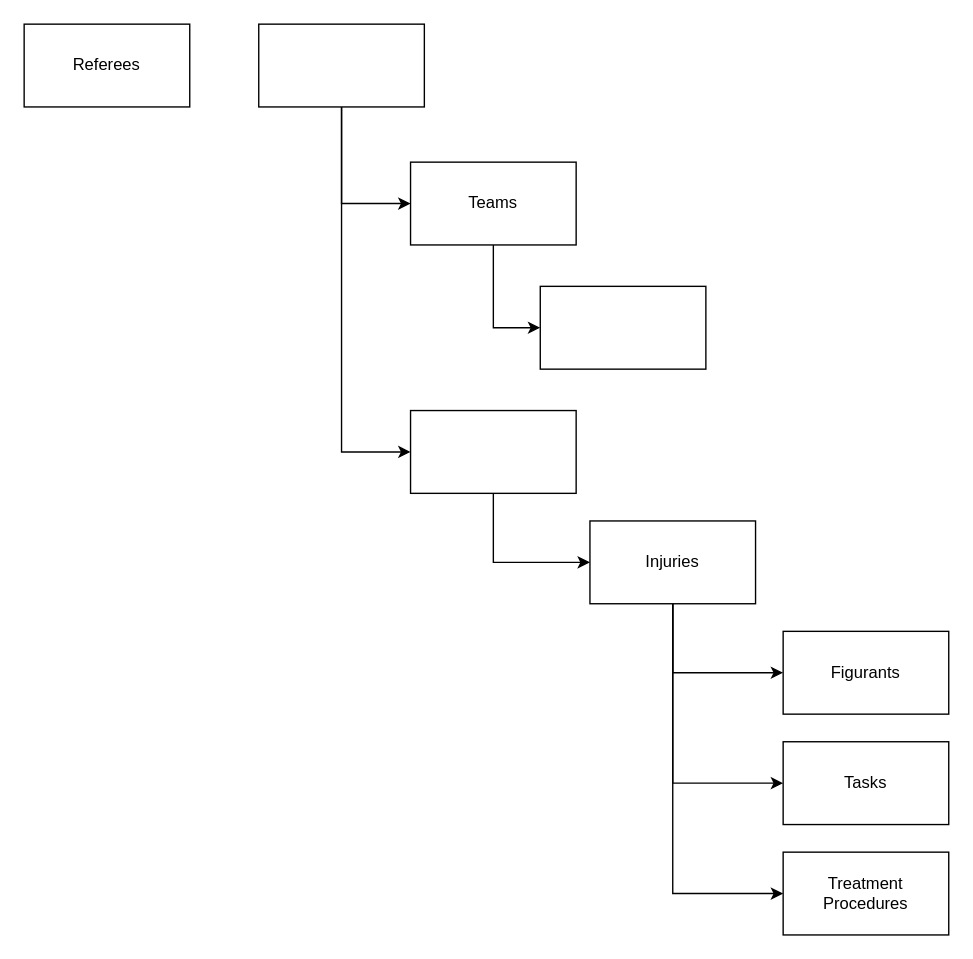
The diagram is 973 pixels wide and 959 high, and some of its shapes have lost their labels. Each missing label, with the box of its shape:
Competition: (257, 23, 424, 107)
Stations: (409, 409, 576, 493)
Team Members: (539, 285, 706, 369)
